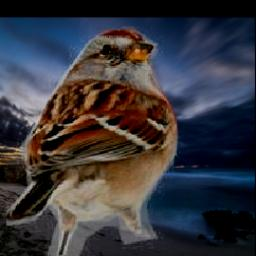Sparrow: (5, 26, 180, 256)
